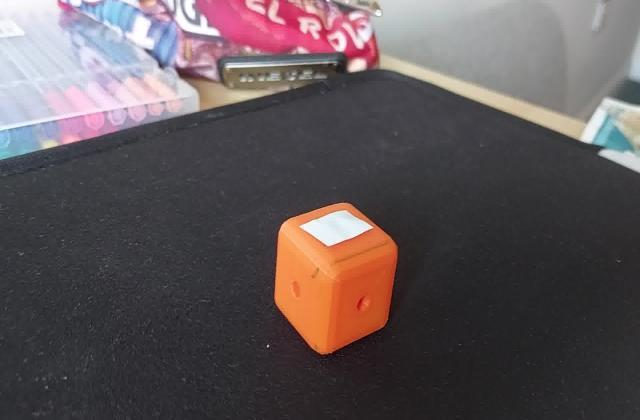cube: (271, 198, 403, 360)
white: (303, 217, 366, 252)
